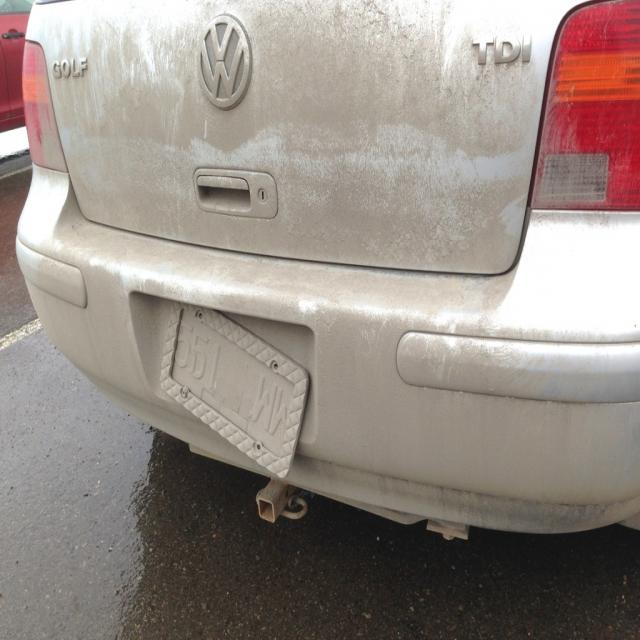other: (37, 0, 635, 578), (0, 0, 32, 132)
